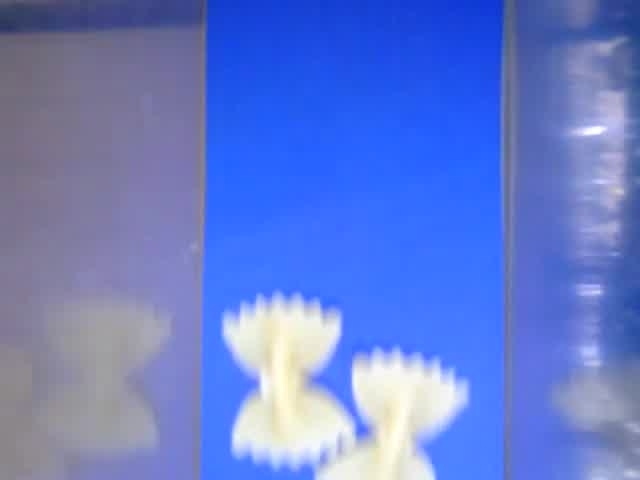farfalle: (221, 291, 355, 471), (315, 347, 472, 480)
